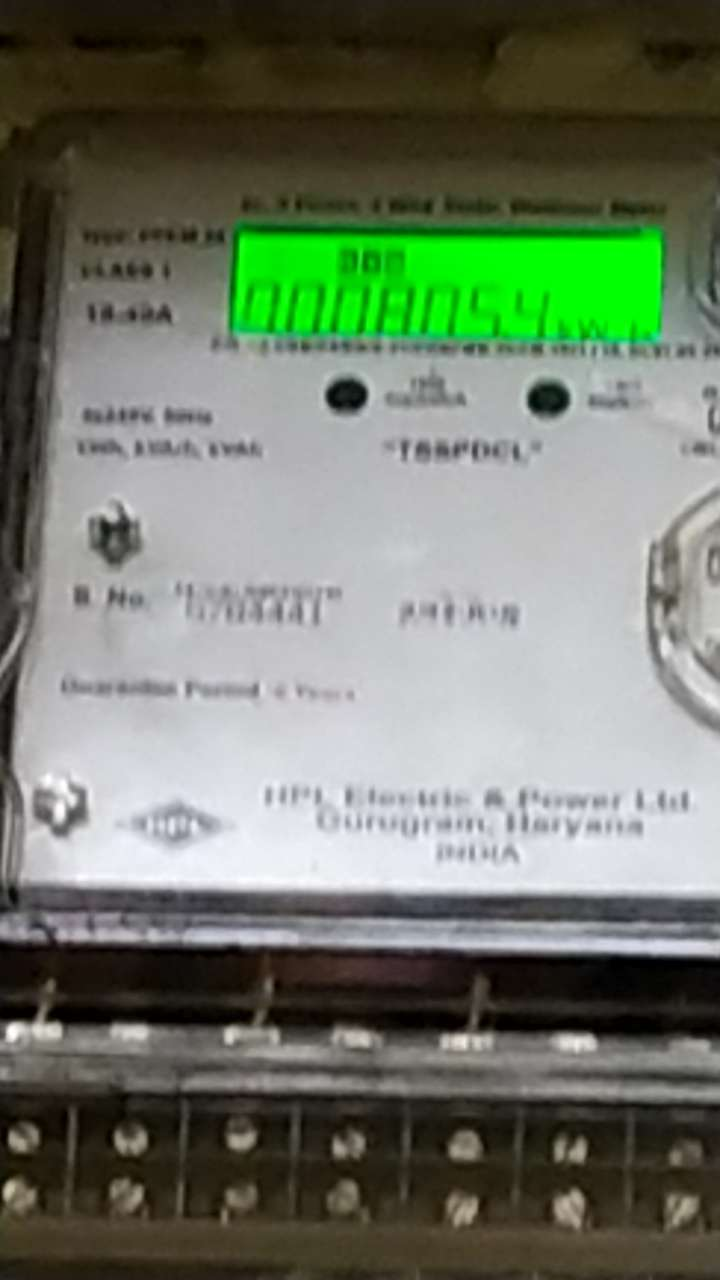meter_serial_number: (177, 594, 331, 630)
